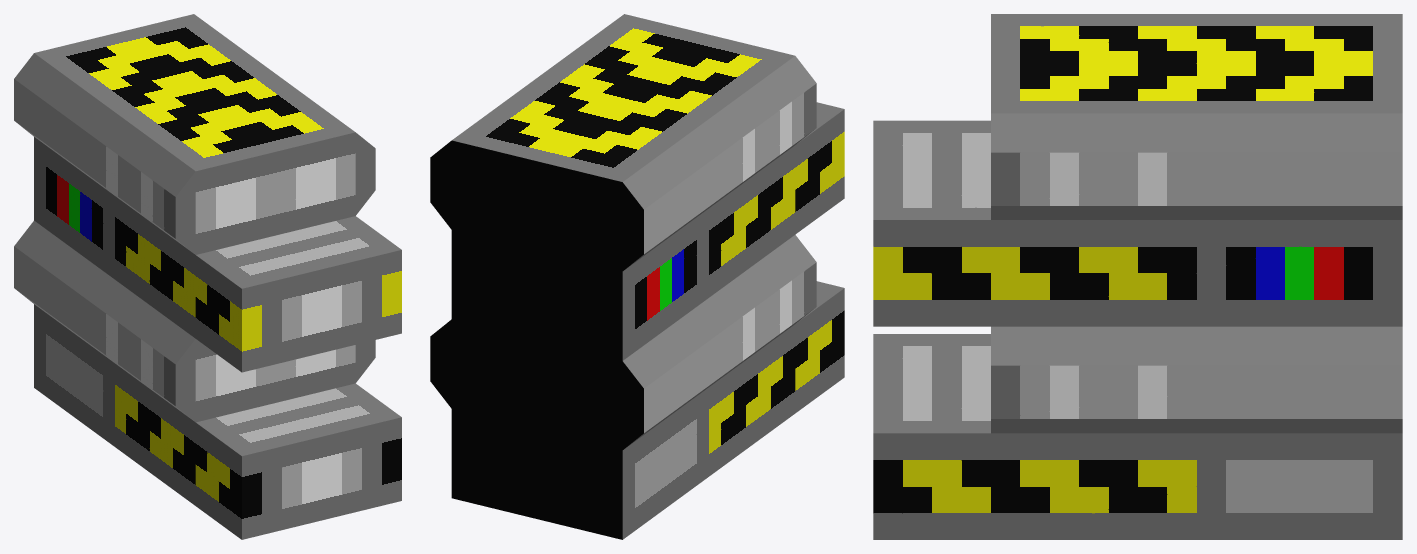
Rendered from door1.gltf.
3 views of the same model, side by side, from view 1: azimuth 30°, elevation 25°; view 2: azimuth 150°, elevation 25°; view 3: azimuth 270°, elevation 25° (orthographic). The views are drawn at different scales.
Parts seen in each view (by area): view 1: door1-col; view 2: door1-col; view 3: door1-col.
Boxes of the visible parts, x1=… form: door1-col: x1=14, y1=14, x2=401, y2=539; door1-col: x1=430, y1=14, x2=844, y2=539; door1-col: x1=873, y1=14, x2=1402, y2=539.
Size of the model in its own units: 1.25 by 2 by 2.25.
1 material, 1 textured.
